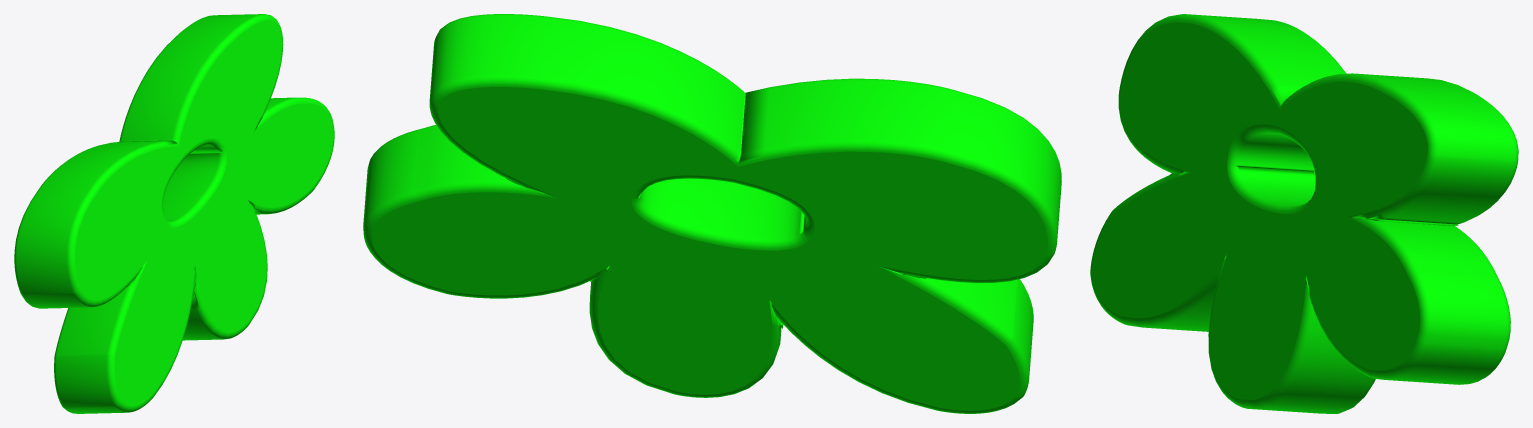
The model's file is florweb.fbx.
The picture shows the model from 3 angles, left to right: view 1: azimuth 30°, elevation 25°; view 2: azimuth 150°, elevation 25°; view 3: azimuth 270°, elevation 25°; orthographic projection. The views are drawn at different scales.
Visible parts, largest first — view 1: Curve; view 2: Curve; view 3: Curve.
Part boxes in pixels (x1,y1,x2,y2): Curve: [14, 14, 334, 413]; Curve: [363, 14, 1061, 413]; Curve: [1090, 14, 1518, 413].
Bounding box in the file's own units: 104 × 68.64 × 69.19.
